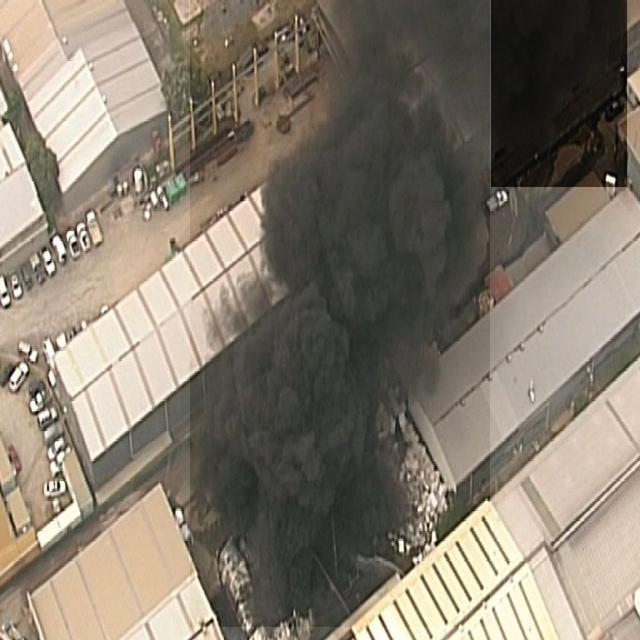Smoke: (190, 0, 490, 627), (491, 0, 627, 187)
